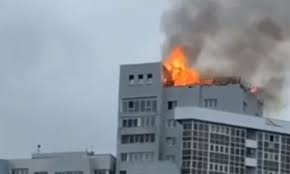fire: (148, 50, 232, 104)
